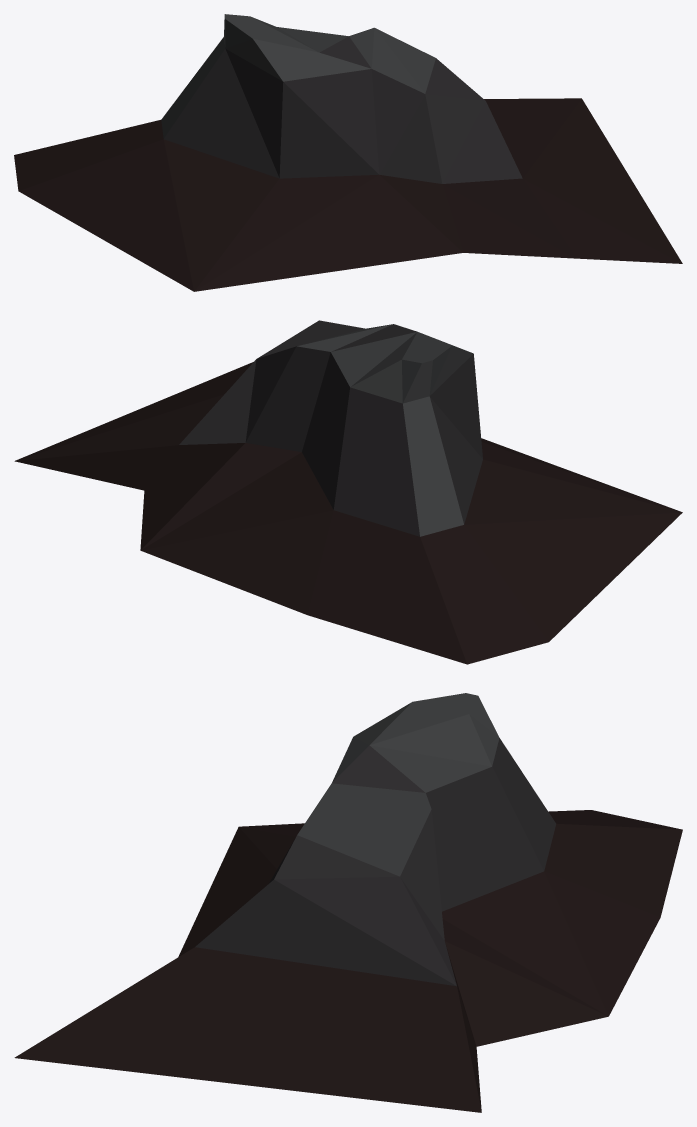
File: Tutorial_Island_Small.fbx
3 views of the same model, one above another, from view 1: azimuth 30°, elevation 25°; view 2: azimuth 150°, elevation 25°; view 3: azimuth 270°, elevation 25° (orthographic). The views are drawn at different scales.
Visible parts, largest first — view 1: Tutorial_Island_Small; view 2: Tutorial_Island_Small; view 3: Tutorial_Island_Small.
Part boxes in pixels (x1,y1,x2,y2): Tutorial_Island_Small: [14, 14, 682, 291]; Tutorial_Island_Small: [14, 320, 682, 664]; Tutorial_Island_Small: [14, 693, 682, 1112].
Size of the model in its own units: 1252 by 399 by 1168.
